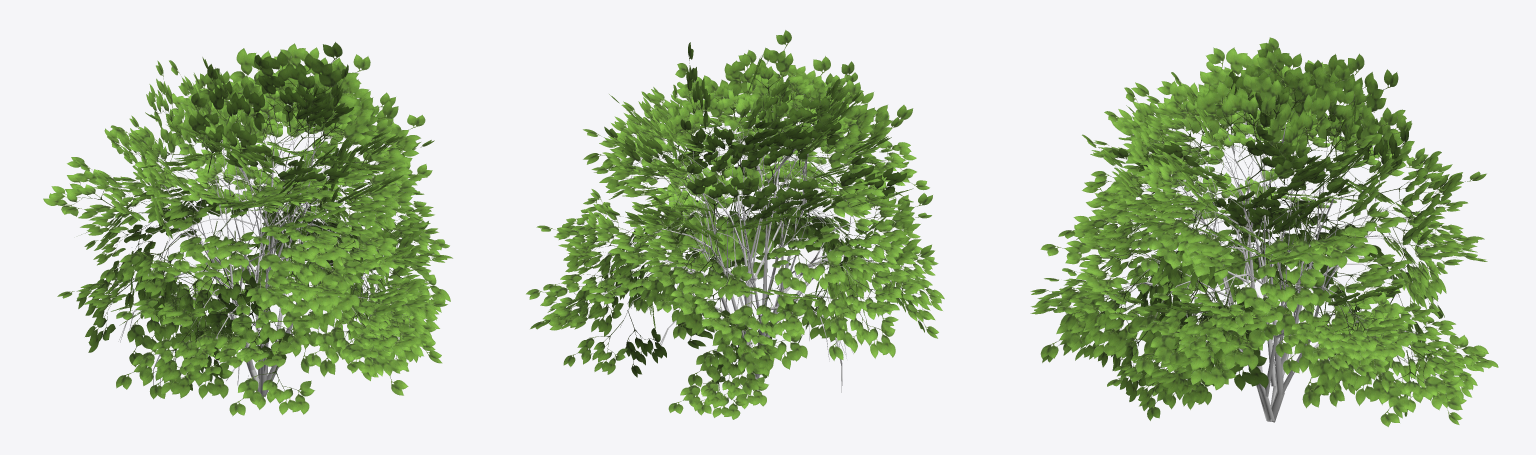
Rendered from Bush5.fbx.
The picture shows the model from 3 angles, left to right: view 1: azimuth 30°, elevation 25°; view 2: azimuth 150°, elevation 25°; view 3: azimuth 270°, elevation 25°; orthographic projection. The views are drawn at different scales.
Parts seen in each view (by area): view 1: leaves, tree; view 2: leaves, tree; view 3: leaves, tree.
Boxes of the visible parts, box(x1,y1,x2,y2) form: leaves: box(43, 42, 452, 416); tree: box(118, 122, 380, 396); leaves: box(526, 30, 944, 419); tree: box(603, 111, 893, 392); leaves: box(1030, 37, 1498, 426); tree: box(1120, 122, 1418, 422).
Bounding box in the file's own units: 164 × 178 × 144.
